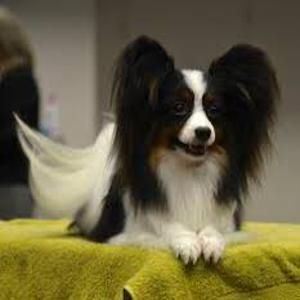yell: (15, 33, 278, 264)
